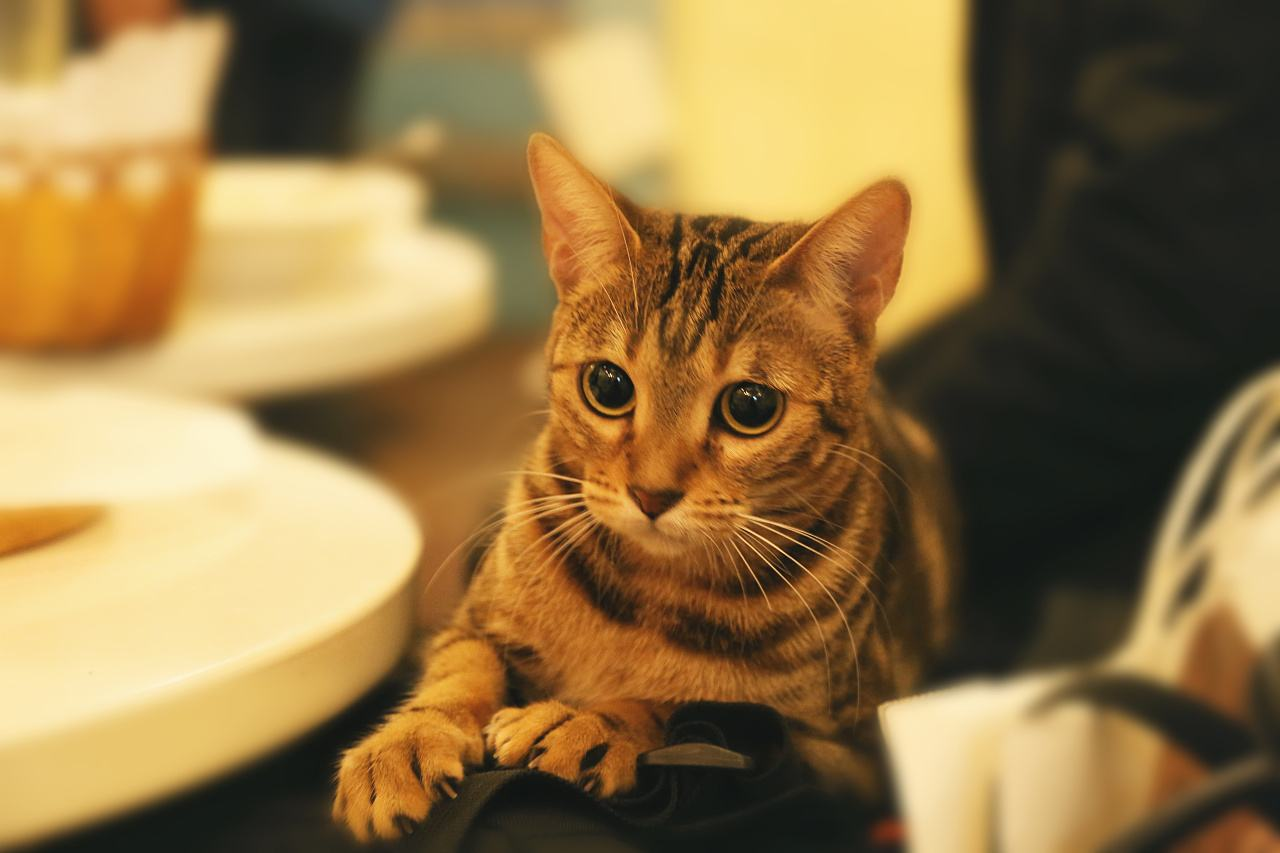cat: (329, 131, 923, 849)
